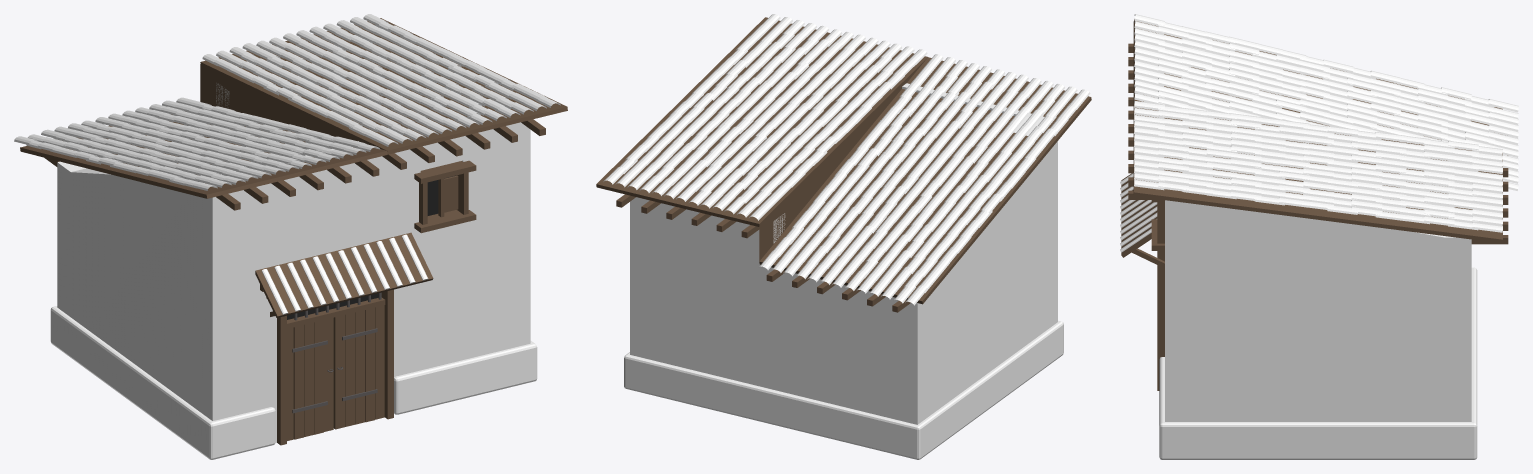
The model's file is casa_1.glb.
The picture shows the model from 3 angles, left to right: view 1: azimuth 30°, elevation 25°; view 2: azimuth 150°, elevation 25°; view 3: azimuth 270°, elevation 25°; orthographic projection. The views are drawn at different scales.
Visible parts, largest first — view 1: Walls_Adobe, Roof_Tiles_Right, Roof_Tiles_Left, Stone_Foundation, Roof_Deck_Right, Awning_Deck, Roof_Deck_Left, Roof_Step_Board, Door_Plank_1_0, Door_Jamb_Right, Door_Jamb_Left, Door_Plank_0_1 (+11 smaller); view 2: Walls_Adobe, Roof_Tiles_Left, Roof_Tiles_Right, Stone_Foundation, Roof_Deck_Left, Roof_Deck_Right, Roof_Step_Board; view 3: Walls_Adobe, Roof_Tiles_Right, Roof_Tiles_Left, Stone_Foundation, Roof_Deck_Right, Door_Jamb_Right, Awning_Deck, Roof_Deck_Left.
Part boxes in pixels (x1,y1,x2,y2): Walls_Adobe: [57, 83, 530, 442]; Roof_Tiles_Right: [202, 14, 560, 146]; Roof_Tiles_Left: [14, 97, 380, 190]; Stone_Foundation: [50, 306, 537, 459]; Roof_Deck_Right: [200, 18, 567, 154]; Awning_Deck: [255, 232, 433, 317]; Roof_Deck_Left: [20, 114, 387, 198]; Roof_Step_Board: [200, 64, 371, 145]; Door_Plank_1_0: [333, 315, 344, 429]; Door_Jamb_Right: [381, 289, 393, 419]; Door_Jamb_Left: [277, 315, 286, 445]; Door_Plank_0_1: [293, 325, 303, 439]; Walls_Adobe: [630, 83, 1057, 424]; Roof_Tiles_Left: [759, 54, 1090, 305]; Roof_Tiles_Right: [603, 14, 927, 220]; Stone_Foundation: [624, 321, 1063, 459]; Roof_Deck_Left: [759, 57, 1091, 304]; Roof_Deck_Right: [596, 17, 927, 226]; Roof_Step_Board: [759, 77, 911, 262]; Walls_Adobe: [1165, 46, 1471, 421]; Roof_Tiles_Right: [1134, 100, 1502, 232]; Roof_Tiles_Left: [1134, 14, 1518, 190]; Stone_Foundation: [1159, 267, 1477, 459]; Roof_Deck_Right: [1133, 105, 1502, 243]; Door_Jamb_Right: [1157, 251, 1164, 390]; Awning_Deck: [1121, 173, 1157, 257]; Roof_Deck_Left: [1133, 19, 1502, 139].
Size of what is drawn, in the model's own units: 5.9 by 4.49 by 5.72.
